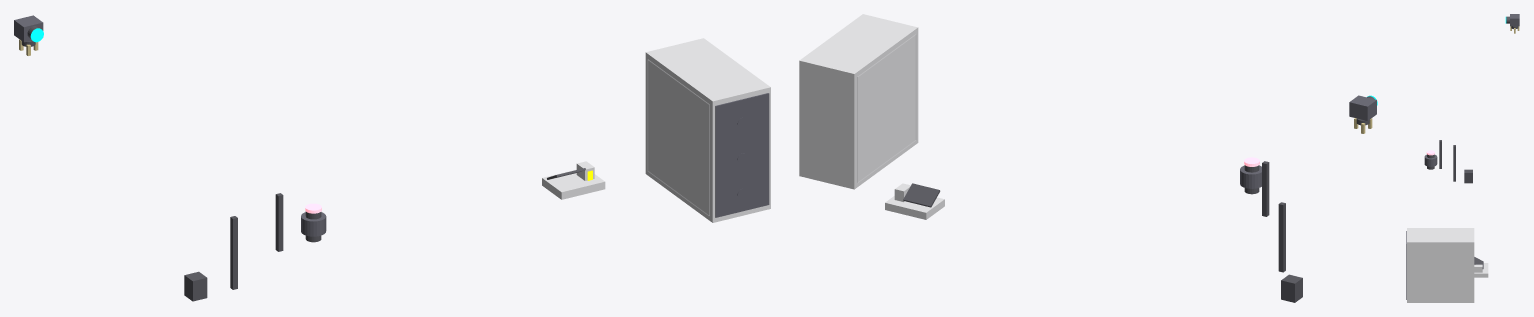
File: on-demand-projects.glb
The picture shows the model from 3 angles, left to right: view 1: azimuth 30°, elevation 25°; view 2: azimuth 150°, elevation 25°; view 3: azimuth 270°, elevation 25°; orthographic projection. The views are drawn at different scales.
Parts seen in each view (by area): view 1: pc_chassis_frame, pc_glass_side_panel, pc_front_mesh, zenith_pedestal, mic_desk_clamp, mic_arm_lower, mic_arm_upper, mic_shockmount; view 2: pc_chassis_frame, pc_glass_side_panel, zenith_pedestal, zenith_solar_panel, ai_cam_chassis, mic_arm_lower, mic_desk_clamp, mic_arm_upper, mic_shockmount; view 3: pc_chassis_frame, zenith_pedestal, mic_shockmount, mic_desk_clamp, ai_cam_chassis, mic_arm_lower.
Part boxes in pixels (<box>): pc_chassis_frame: <box>645,38,770,222</box>; pc_glass_side_panel: <box>647,59,709,215</box>; pc_front_mesh: <box>715,93,769,217</box>; zenith_pedestal: <box>542,169,605,199</box>; mic_desk_clamp: <box>184,271,207,301</box>; mic_arm_lower: <box>230,216,237,289</box>; mic_arm_upper: <box>275,193,283,251</box>; mic_shockmount: <box>301,212,326,236</box>; pc_chassis_frame: <box>799,14,918,189</box>; pc_glass_side_panel: <box>857,34,916,182</box>; zenith_pedestal: <box>885,196,944,219</box>; zenith_solar_panel: <box>903,183,940,207</box>; ai_cam_chassis: <box>1349,95,1376,120</box>; mic_arm_lower: <box>1278,202,1285,272</box>; mic_desk_clamp: <box>1281,274,1302,302</box>; mic_arm_upper: <box>1262,161,1269,216</box>; mic_shockmount: <box>1240,165,1261,188</box>; pc_chassis_frame: <box>1407,228,1474,302</box>; zenith_pedestal: <box>1474,263,1488,277</box>; mic_shockmount: <box>1424,154,1437,166</box>; mic_desk_clamp: <box>1464,169,1472,183</box>; ai_cam_chassis: <box>1510,14,1519,26</box>; mic_arm_lower: <box>1453,145,1455,181</box>.
Size of the model in its own units: 2.66 by 1.07 by 0.811.
